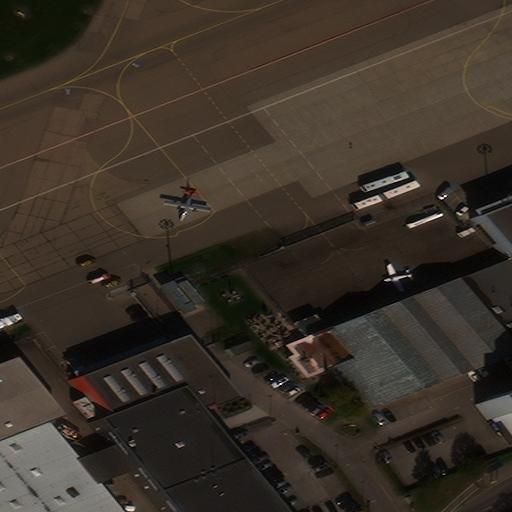Small Civil Transport: (163, 190, 210, 221), (383, 266, 413, 291)
